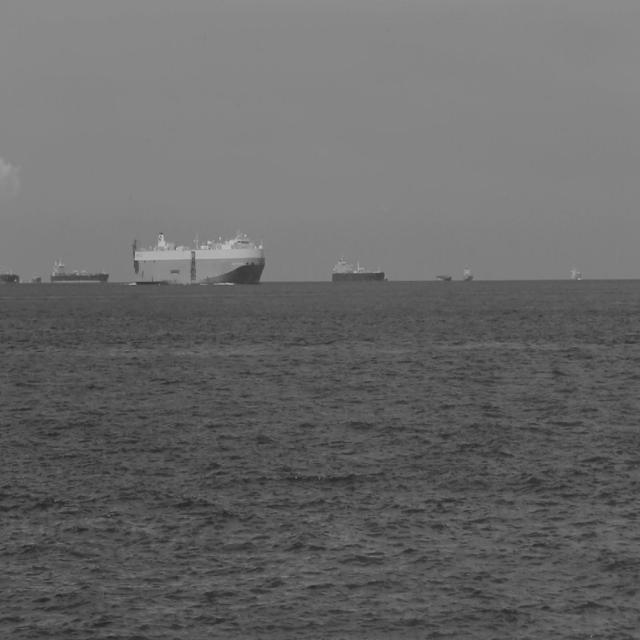ship: (131, 228, 265, 286), (331, 252, 385, 284), (50, 257, 110, 284), (0, 262, 20, 284), (569, 262, 582, 280), (462, 265, 474, 282), (31, 269, 42, 287), (436, 272, 452, 283), (383, 274, 388, 282), (12, 278, 18, 284)
